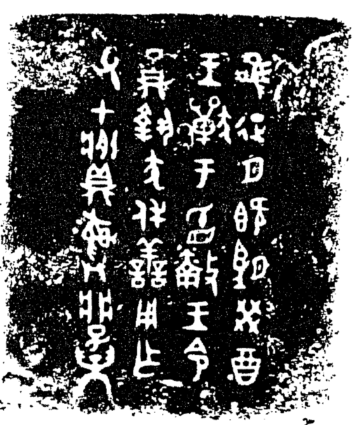char: (61, 206, 124, 292), (71, 348, 136, 419), (171, 90, 237, 146), (117, 236, 183, 292), (117, 35, 184, 90), (77, 26, 130, 93), (168, 247, 227, 297), (177, 42, 240, 86), (234, 344, 280, 404), (238, 44, 287, 100), (63, 294, 118, 342), (133, 98, 192, 142), (232, 189, 280, 240), (225, 244, 282, 285), (187, 200, 232, 250), (227, 148, 288, 184), (234, 106, 290, 144), (181, 302, 234, 342), (68, 163, 130, 197), (230, 295, 281, 336), (69, 127, 134, 157), (130, 341, 168, 389), (175, 340, 216, 384), (133, 151, 172, 195), (130, 297, 171, 333), (75, 100, 124, 127), (194, 153, 226, 193), (130, 201, 171, 228)
